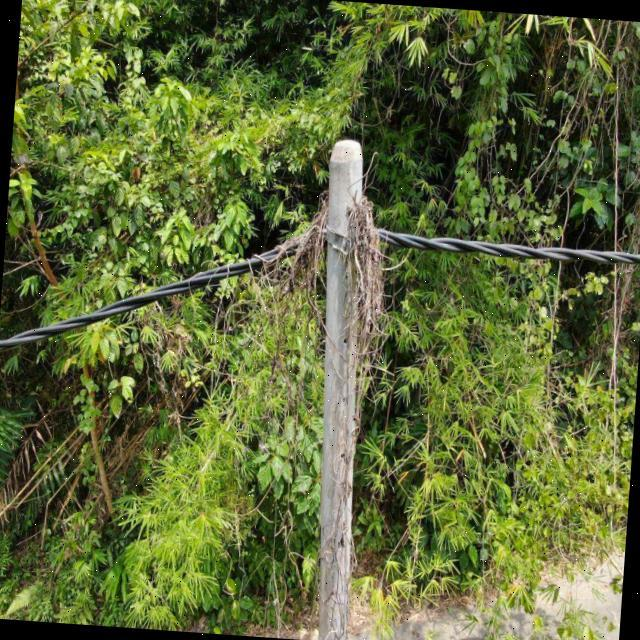critical vegetation: (153, 147, 394, 640)
